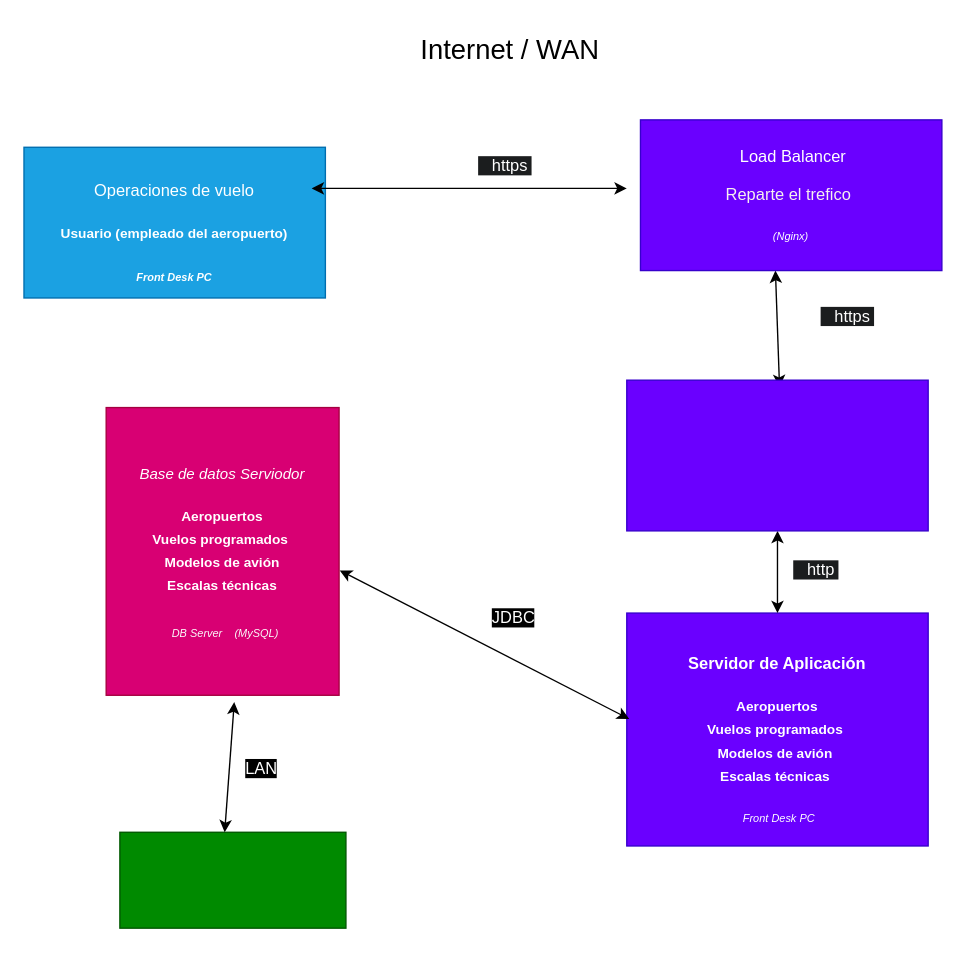
Some shapes in this 966 by 955 pixel diagram are drawn without their labels. Here are the shapes that lost their labels. From the top down, the centre of each, then its label:
At (776,455): "Servidor Web Entrega la página al usuario. (Apache) │".
At (232,879): "Backup Server ( NAS )".
